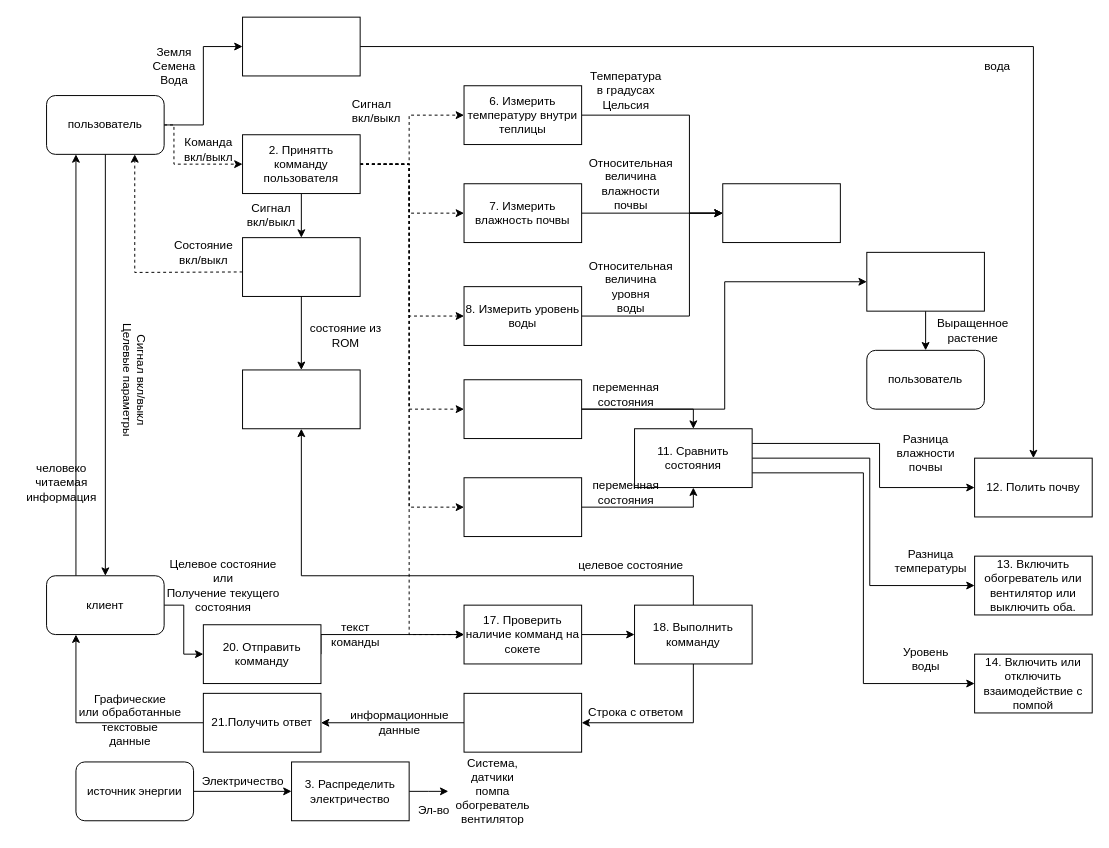
The diagram is 1109 pixels wide and 848 high, and some of its shapes have lost their labels. Here are the shapes that lost their labels. From the top down, the centre of each, then its label:
(301,46): 1. Добавить материалы
(781,213): 16. Записать текущее состояние
(301,266): 4. Иници-ализировать состояние
(925,281): 15. Сохр. целевые параметры среды пока семена не вырастут
(301,399): 5. Записать целевое состояние
(522,409): 9. Считать целевое состояние
(522,507): 10. Считать текущее состояние
(522,722): 19. Передать данные в сокет
